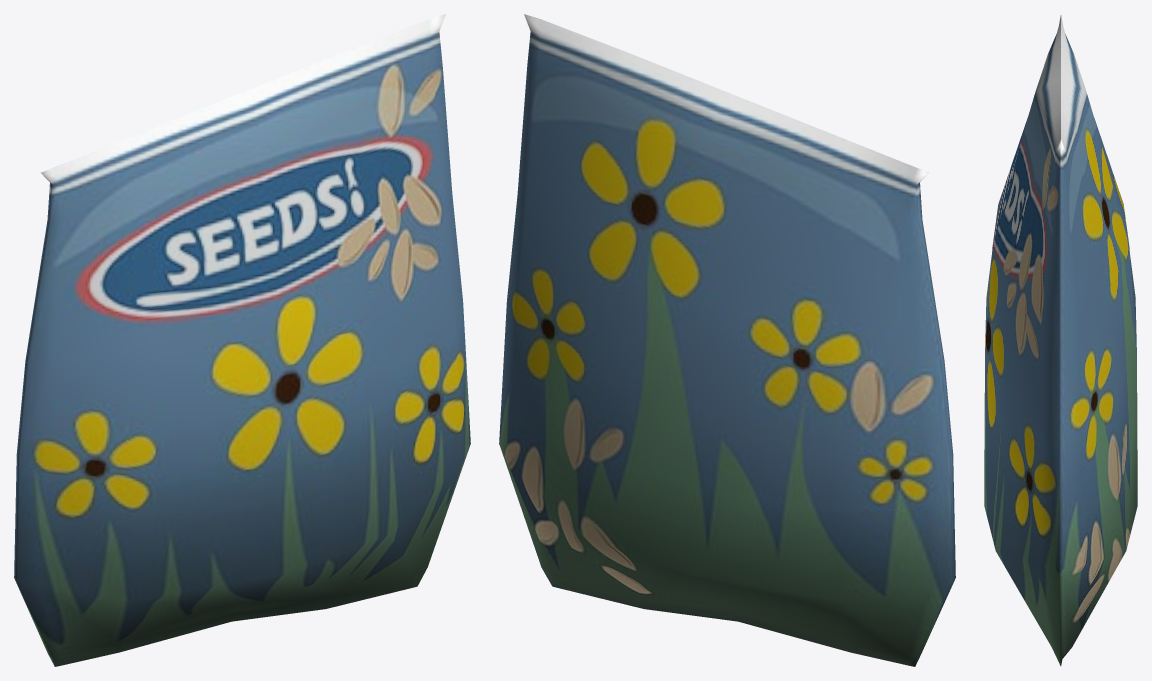
The model's file is SeedPacket.glb.
3 renders of one model, left to right at view 1: azimuth 30°, elevation 25°; view 2: azimuth 150°, elevation 25°; view 3: azimuth 270°, elevation 25°, orthographic. The views are drawn at different scales.
Parts seen in each view (by area): view 1: SeedPacket; view 2: SeedPacket; view 3: SeedPacket.
Boxes of the visible parts, bbox=[...] form: SeedPacket: bbox=[14, 14, 470, 666]; SeedPacket: bbox=[499, 14, 955, 666]; SeedPacket: bbox=[984, 15, 1137, 666].
Bounding box in the file's own units: 0.1185 × 0.1411 × 0.0367.
Materials: 1 (1 with a texture image).
